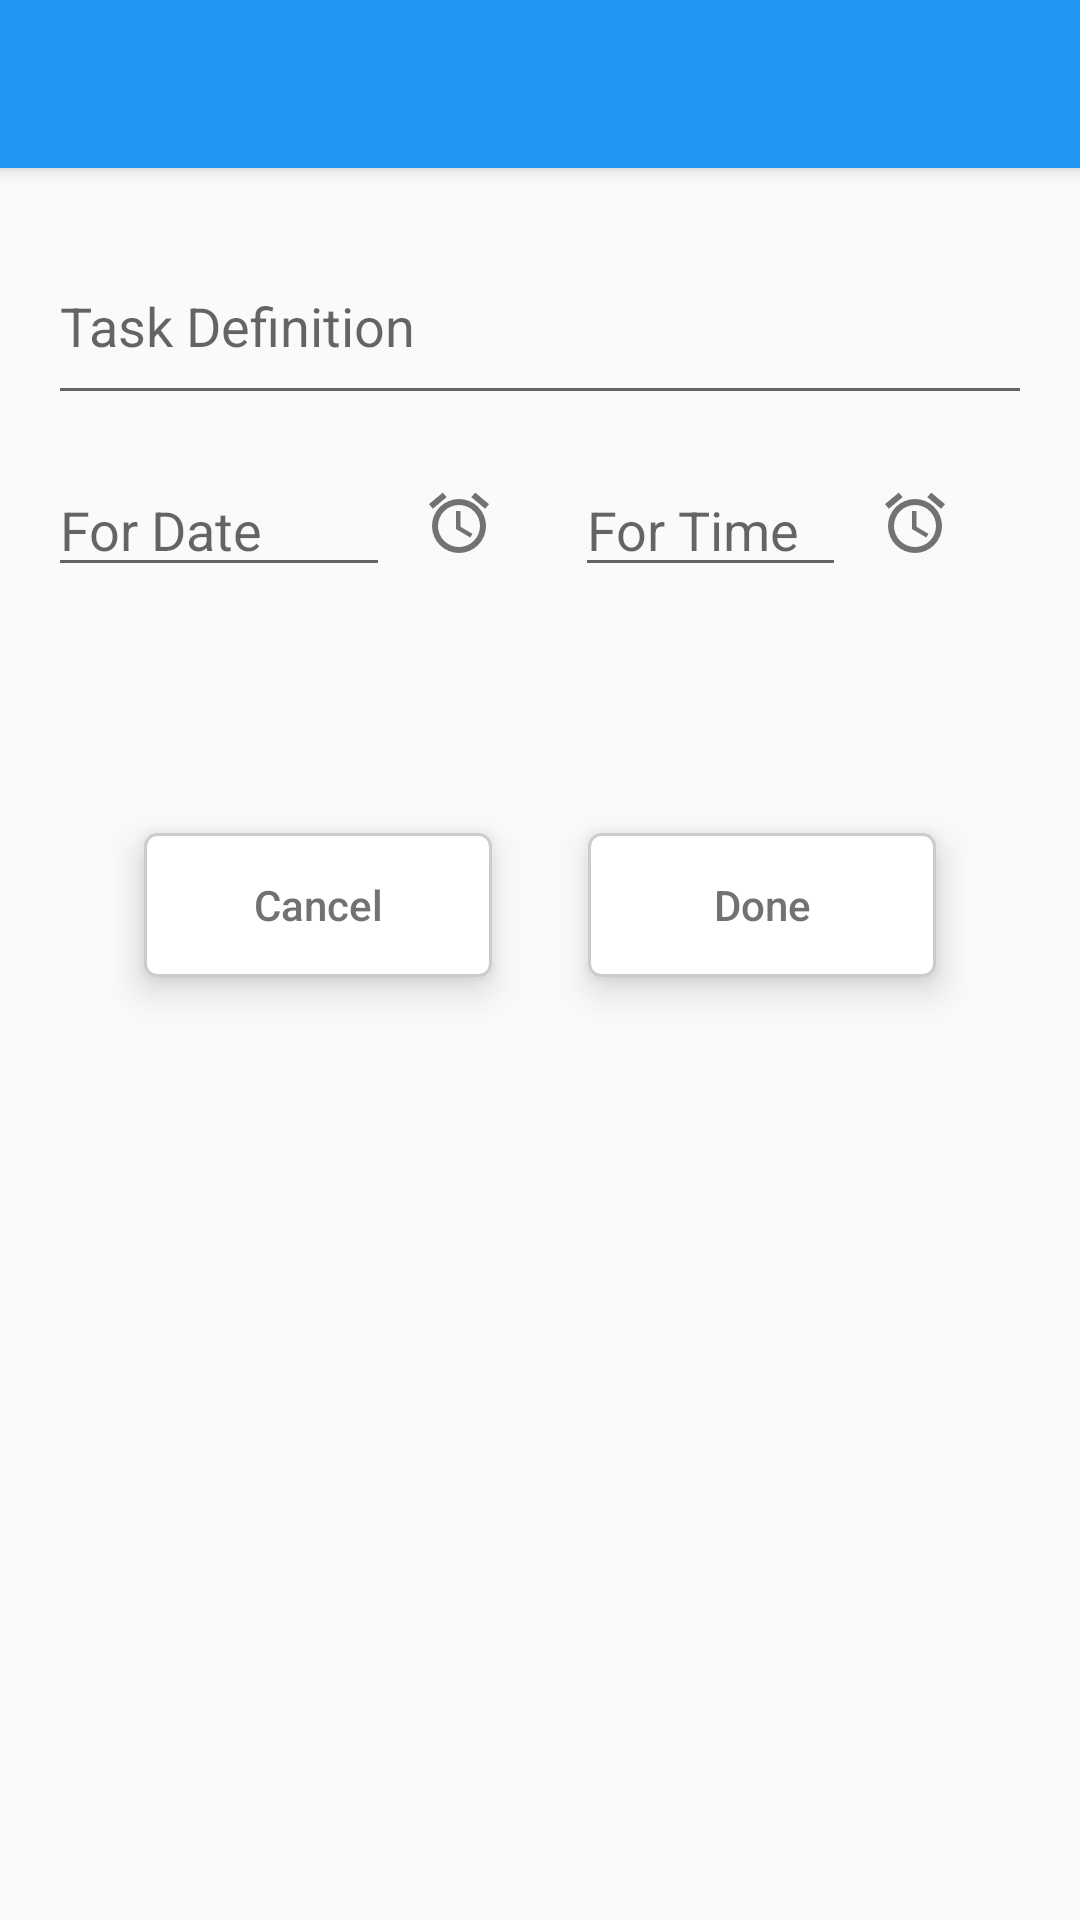

Where icons sit on this 1080 × 1920 app screen, as (x1, y1, x2, y2):
alarm: (429, 493, 489, 553), (885, 493, 945, 553)
